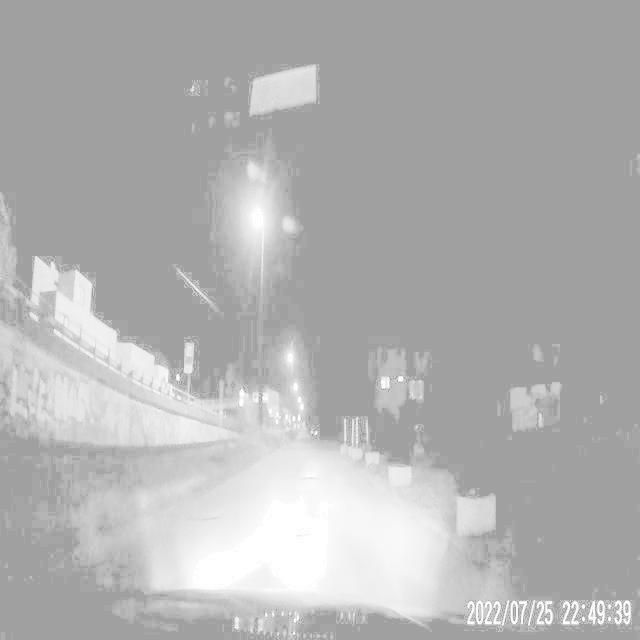Pothole: (187, 502, 228, 532), (286, 524, 323, 547), (300, 463, 322, 490)
